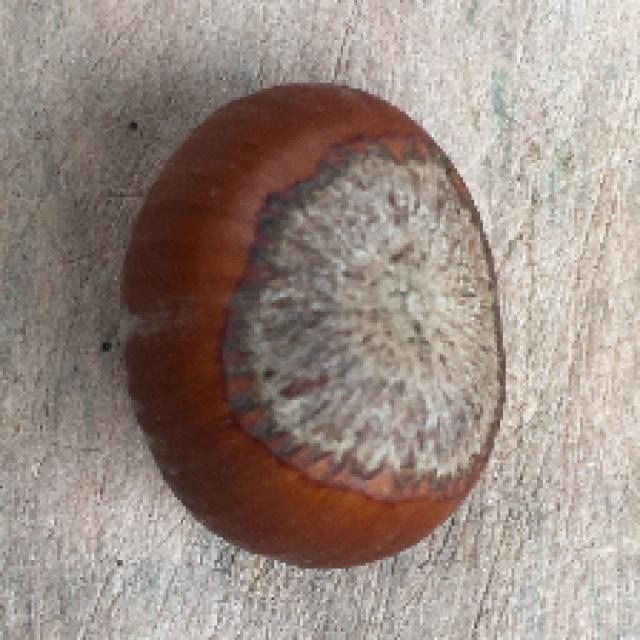qualityHazelnut: (120, 82, 509, 572)
